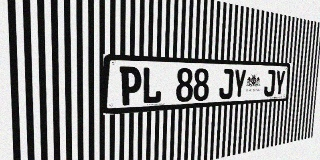8: (176, 68, 194, 102), (193, 68, 210, 101)
J: (219, 69, 234, 99), (263, 70, 276, 97)
L: (142, 67, 162, 104)
P: (119, 66, 141, 106)
Y: (232, 69, 247, 99), (274, 70, 286, 96)
